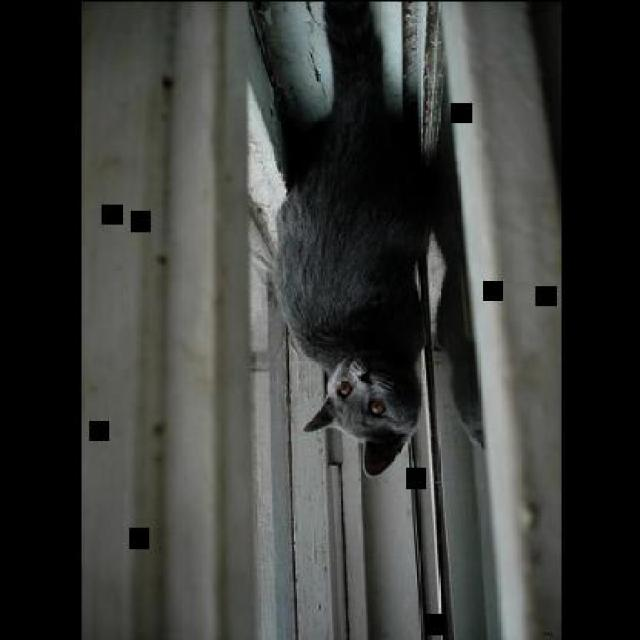unauthorized: (244, 0, 484, 478)
